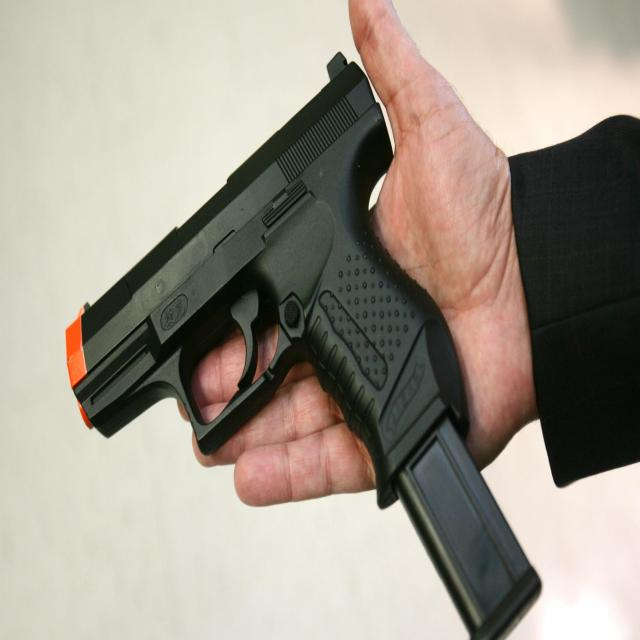gun: (68, 51, 543, 638)
